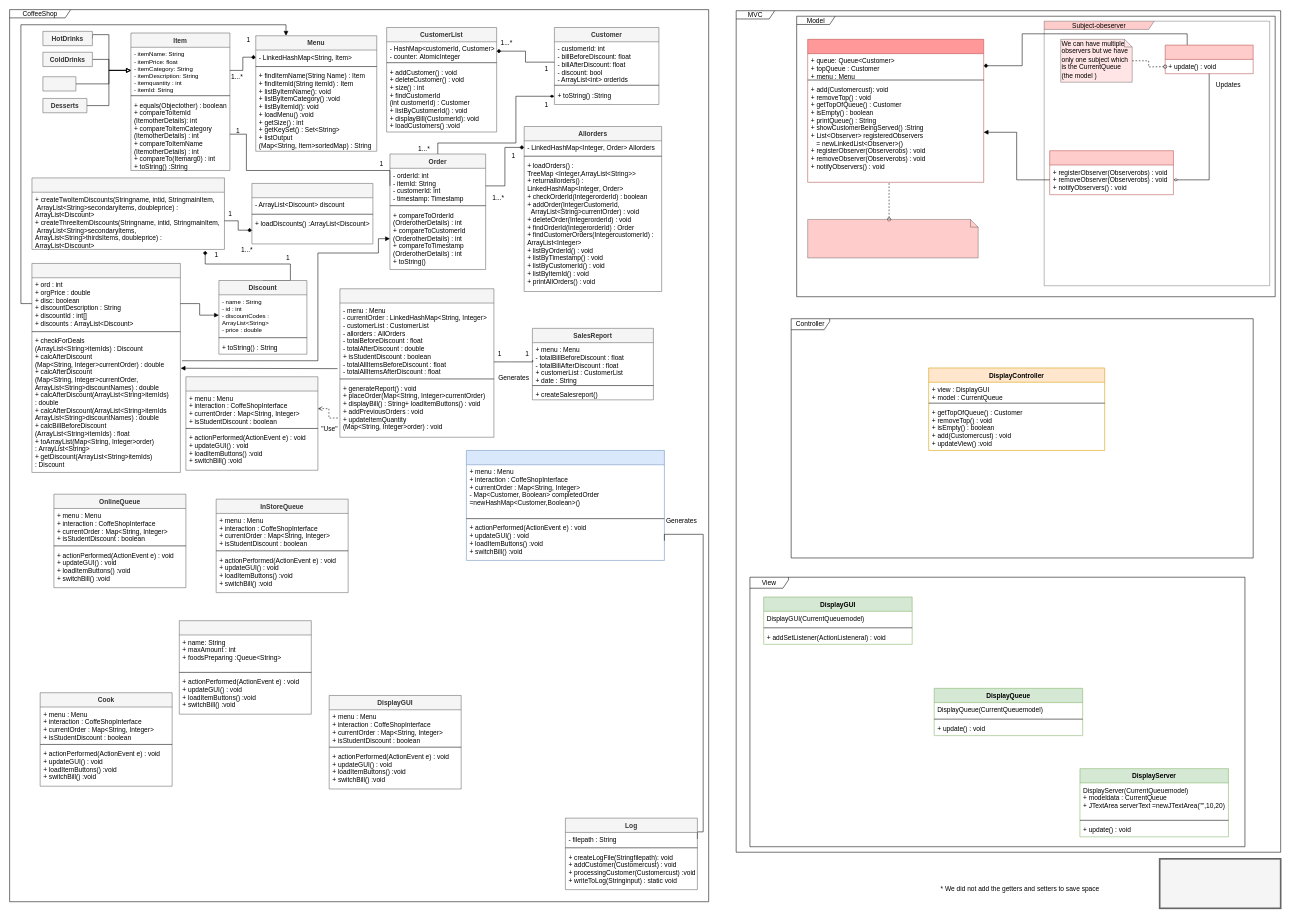
The diagram is 1291 pixels wide and 919 high, and some of its shapes have lost their labels. The box of each missing label's shape, as (x1, y1, x2, y2) in pixels:
AllDiscounts: (251, 183, 373, 244)
Class diagram CoffeeShop: (1159, 858, 1281, 909)
CoffeShopInterface: (339, 288, 494, 437)
CurrentQueue: (807, 39, 984, 182)
DiscountCheck: (31, 263, 180, 472)
DiscountFactory: (31, 177, 224, 249)
Food: (42, 76, 76, 91)
Machine: (179, 620, 311, 714)
MenuGUI: (185, 376, 318, 470)
Observer: (1165, 45, 1253, 74)
registeredObservers : list to hold any observers: (807, 219, 978, 258)
Subject: (1049, 150, 1173, 195)
WaitingQueue: (466, 450, 664, 560)
